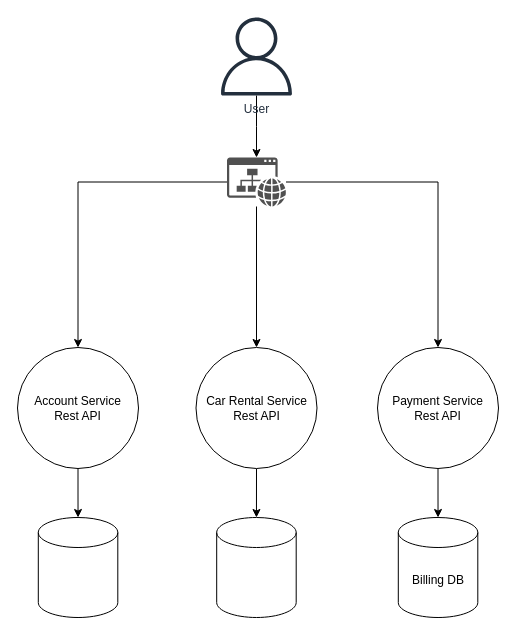
Image size: 516x635. Some labels were removed from this diagram. The shapes that lost their labels are listed below. From the top down, each one's centre as x and y in pixels, then its label:
the point at 256,181: Website
the point at 77,567: Account DB
the point at 256,567: Vehicle DB
